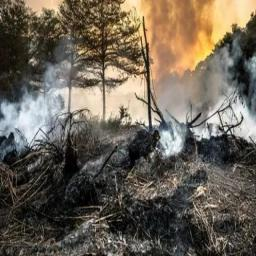Heavy smoke: (0, 0, 255, 165)
Medium fire: (134, 9, 241, 115)
